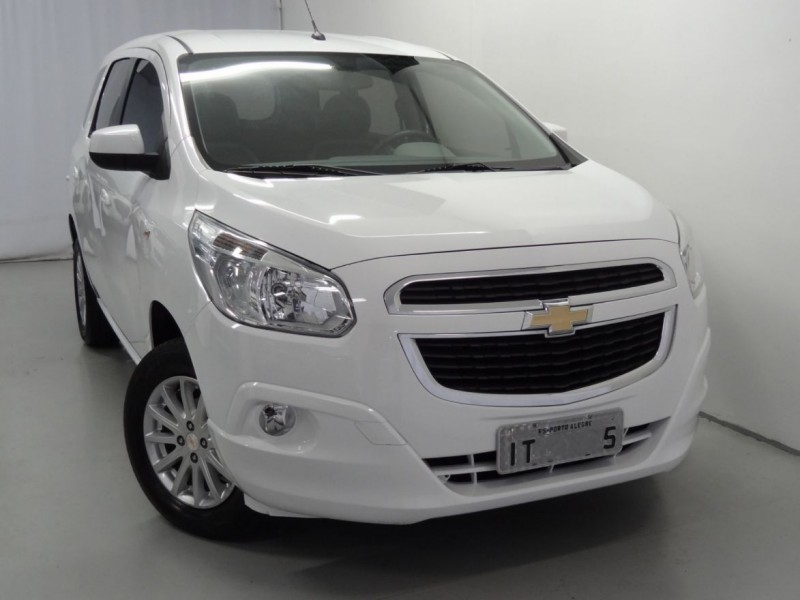Carro: (60, 32, 719, 541)
